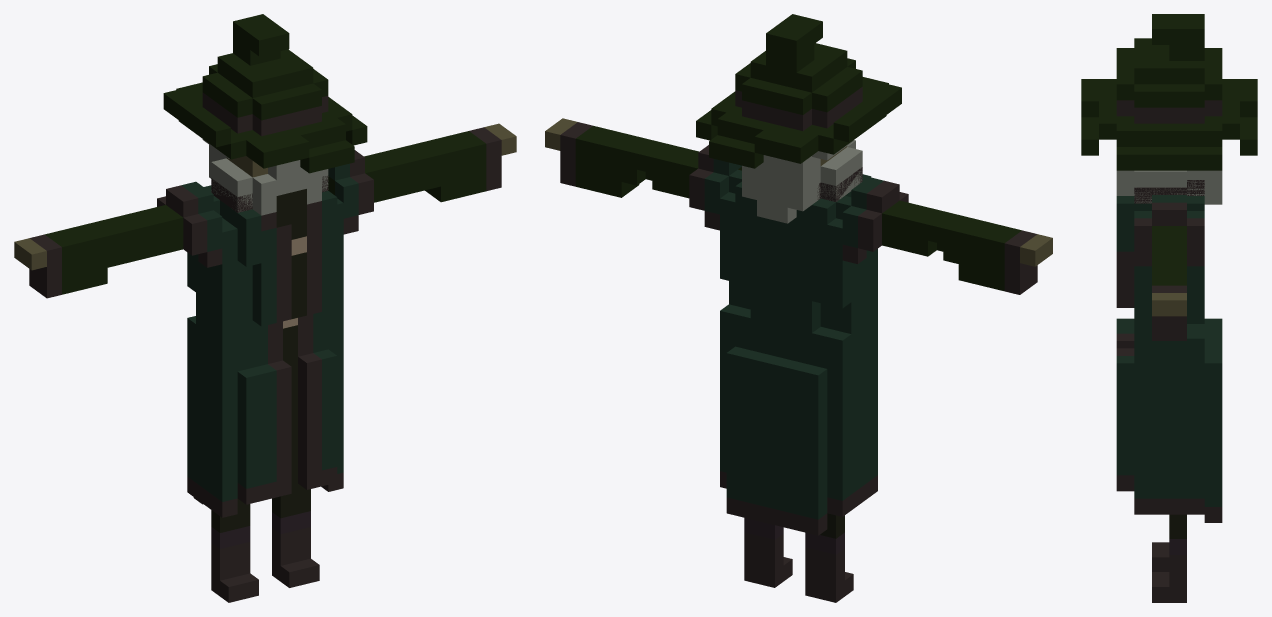
Rendered from TPose_Character07.glb.
3 views of the same model, side by side, from view 1: azimuth 30°, elevation 25°; view 2: azimuth 150°, elevation 25°; view 3: azimuth 270°, elevation 25° (orthographic).
Parts seen in each view (by area): view 1: Character07; view 2: Character07; view 3: Character07.
Part boxes in pixels (x1,y1,x2,y2): Character07: (14, 14, 516, 602); Character07: (545, 14, 1052, 602); Character07: (1081, 14, 1257, 602).
Bounding box in the file's own units: 1.83 × 2 × 0.5714.
Materials: 1 (1 with a texture image).
